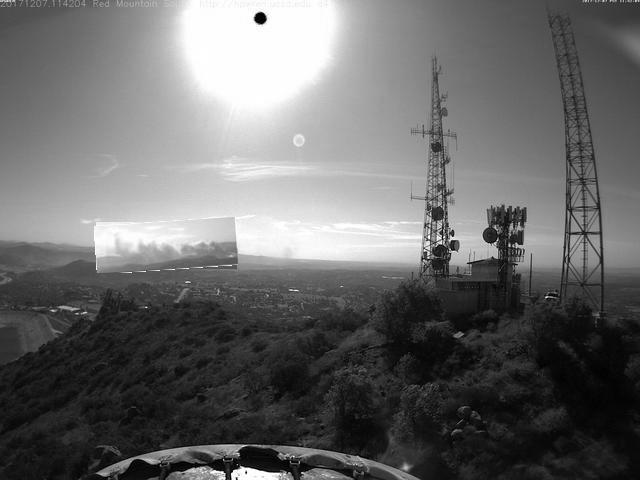smoke: (96, 221, 240, 273)
